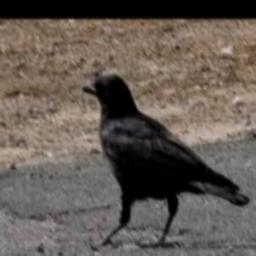Crow: (82, 73, 251, 250)
